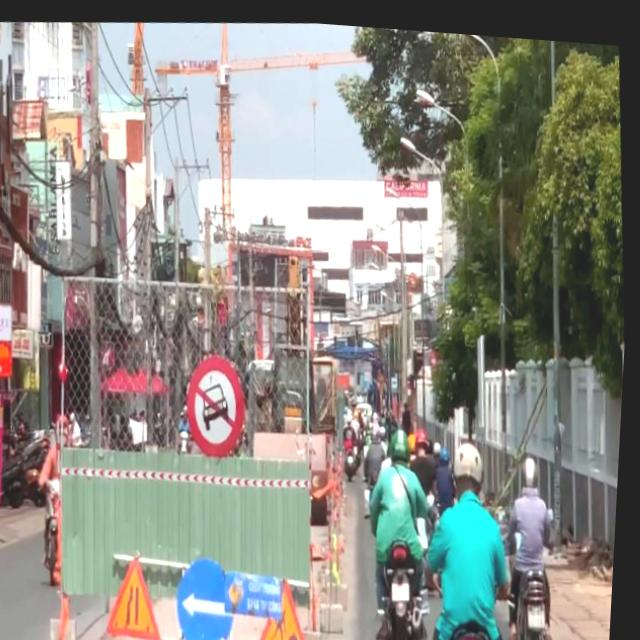Cac xe chi duoc re trai: (178, 547, 244, 640)
Cam xe oto: (185, 349, 257, 455)
